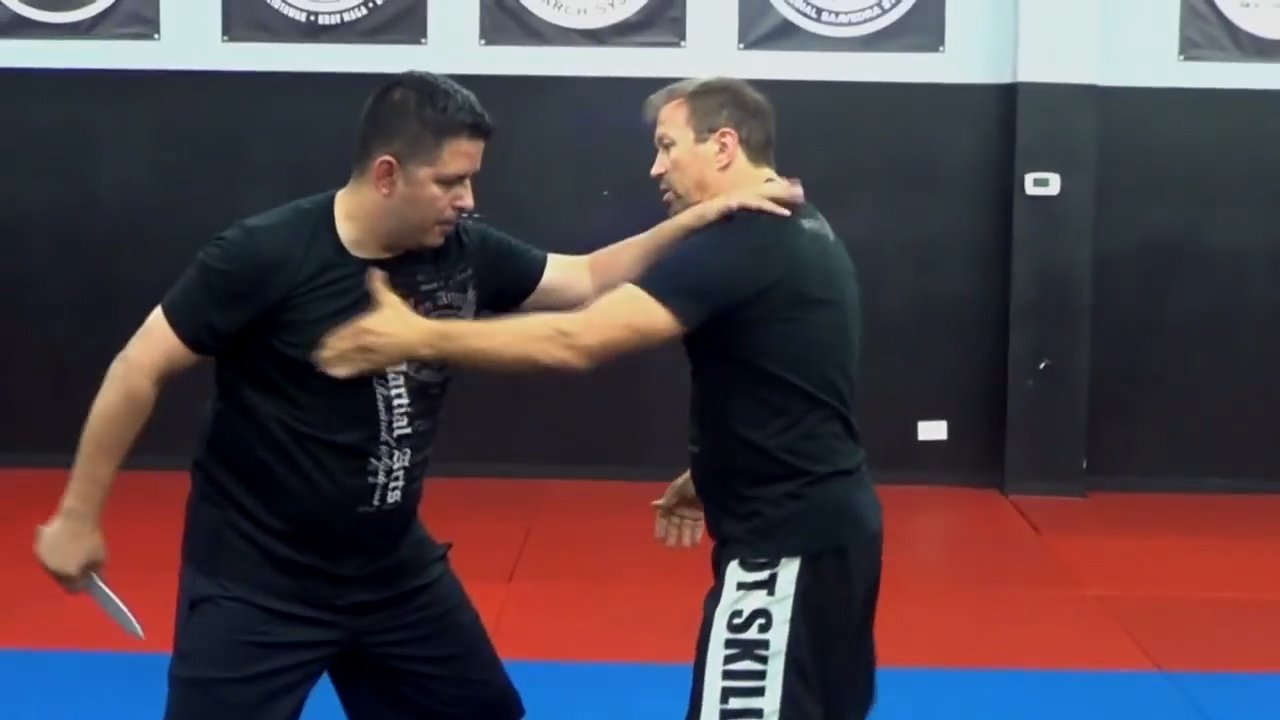knife: (22, 516, 149, 645)
